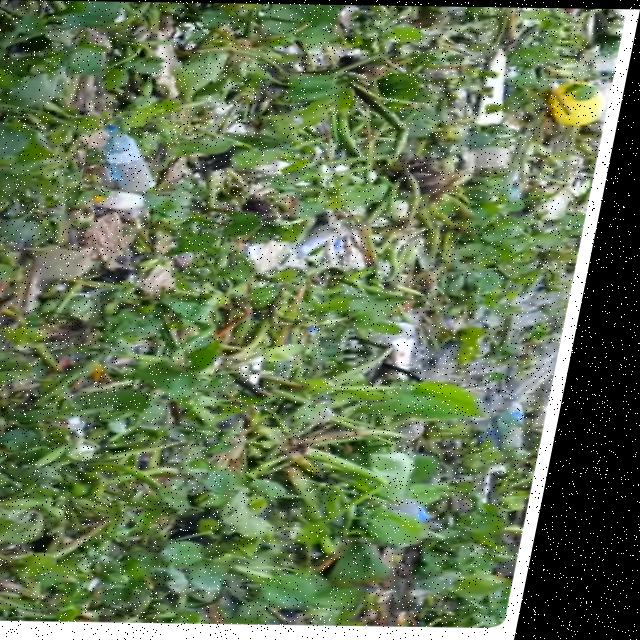plasticbottle: (86, 110, 189, 191), (501, 391, 560, 445)
